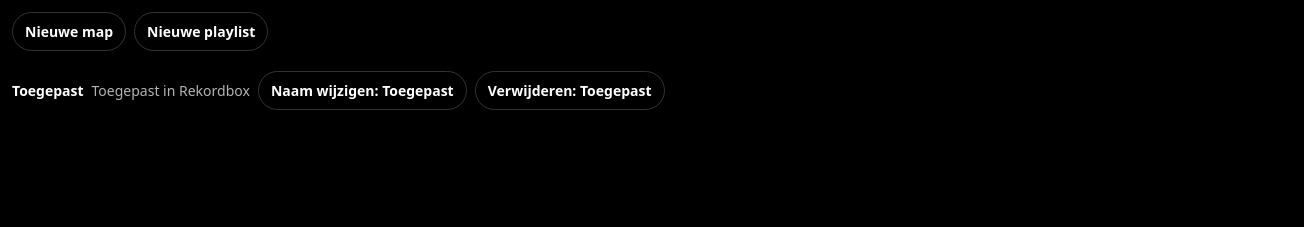
Scenario: Tree › shows a naming error instead of renaming when the backend refuses
The width and height of the screenshot is (1304, 227).
Click the button "Naam wijzigen: Toegepast" at (362, 90), box top-left (258, 71), bottom-right (467, 110)
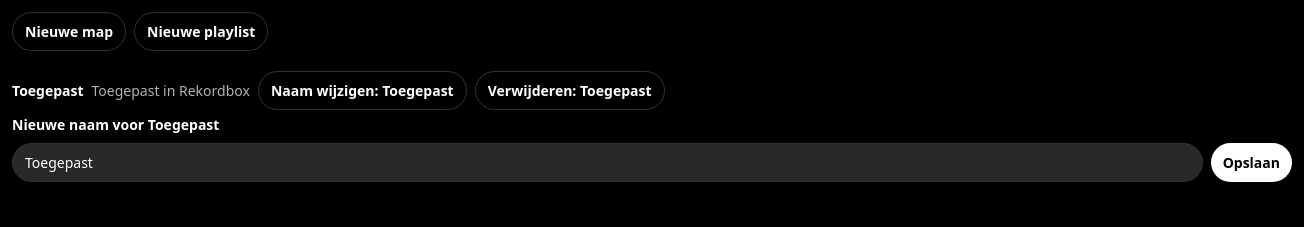
Replace the text in the field labelled "Nieuwe naam voor Toegepast" with "Nieuwe naam" at (607, 162), box top-left (12, 143), bottom-right (1203, 182)
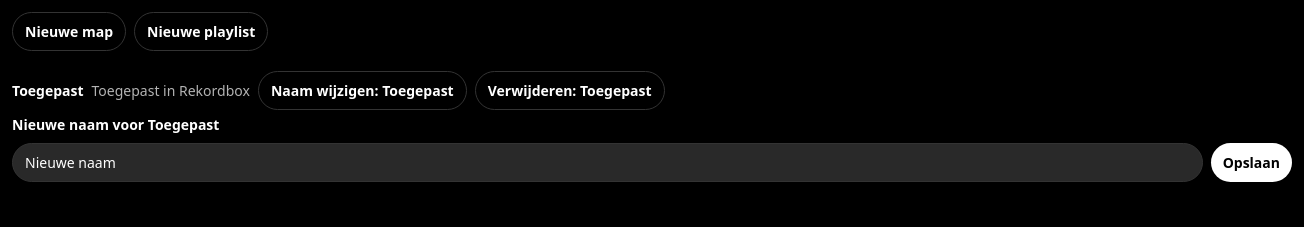
Click the button "Opslaan" at (1251, 162), box top-left (1211, 143), bottom-right (1292, 182)
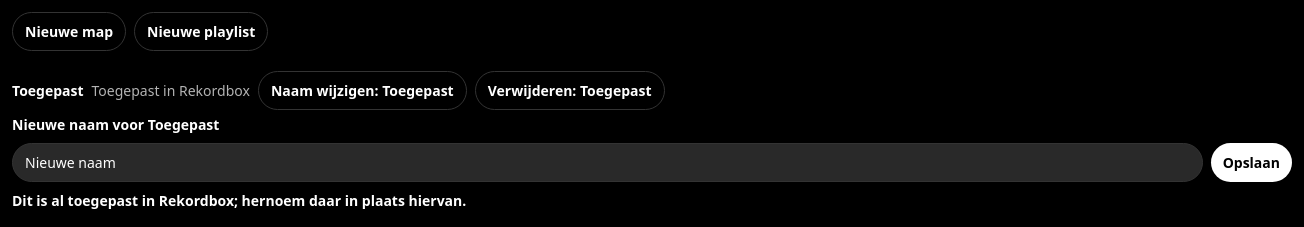
Expected: the text "Dit is al toegepast in Rekordbox; hernoem daar in plaats hiervan." is shown, top-left (12, 191), bottom-right (466, 210)
